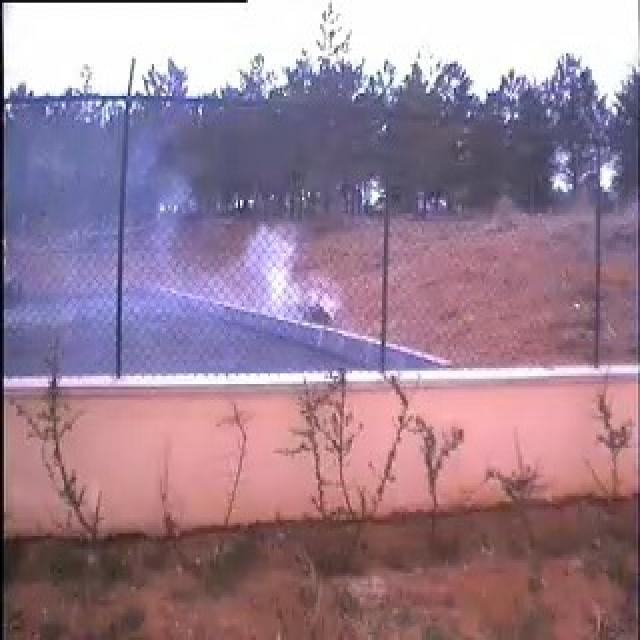smoke: (59, 142, 308, 365)
